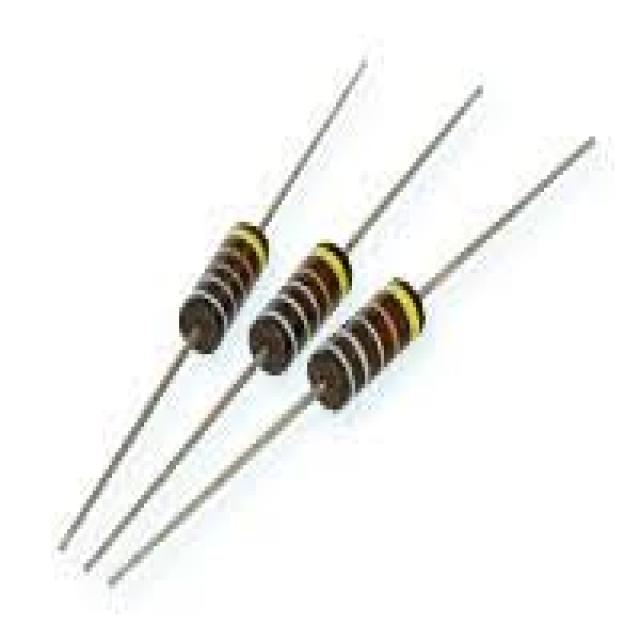Resistor: (310, 276, 429, 412), (176, 219, 272, 355)
